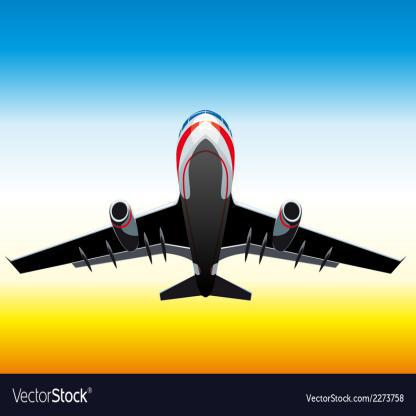CIV_Plane: (0, 83, 411, 322)
